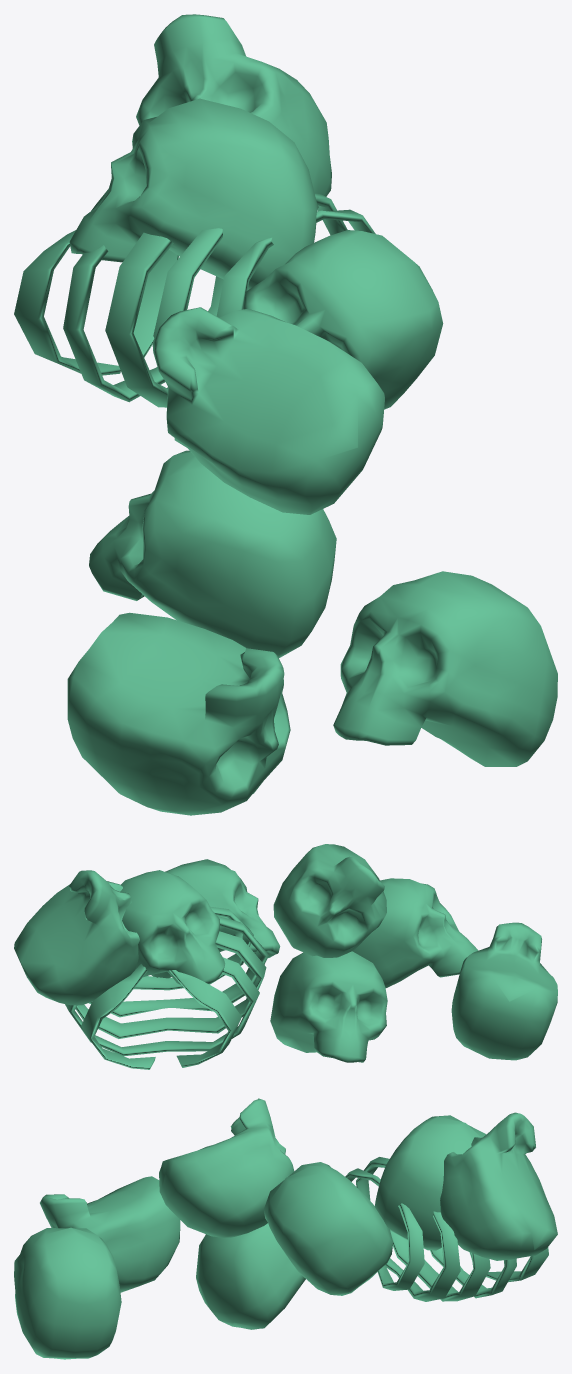
The model's file is Jar_Bones_02A_Lod1.fbx.
3 views of the same model, one above another, from view 1: azimuth 30°, elevation 25°; view 2: azimuth 150°, elevation 25°; view 3: azimuth 270°, elevation 25° (orthographic). The views are drawn at different scales.
Parts seen in each view (by area): view 1: Jar_Bones_02A_Lod1; view 2: Jar_Bones_02A_Lod1; view 3: Jar_Bones_02A_Lod1.
Boxes of the visible parts, box(x1,y1,x2,y2) form: Jar_Bones_02A_Lod1: box(14, 14, 557, 815); Jar_Bones_02A_Lod1: box(14, 844, 557, 1069); Jar_Bones_02A_Lod1: box(14, 1098, 557, 1359).
Bounding box in the file's own units: 52.07 × 40.25 × 72.72.
